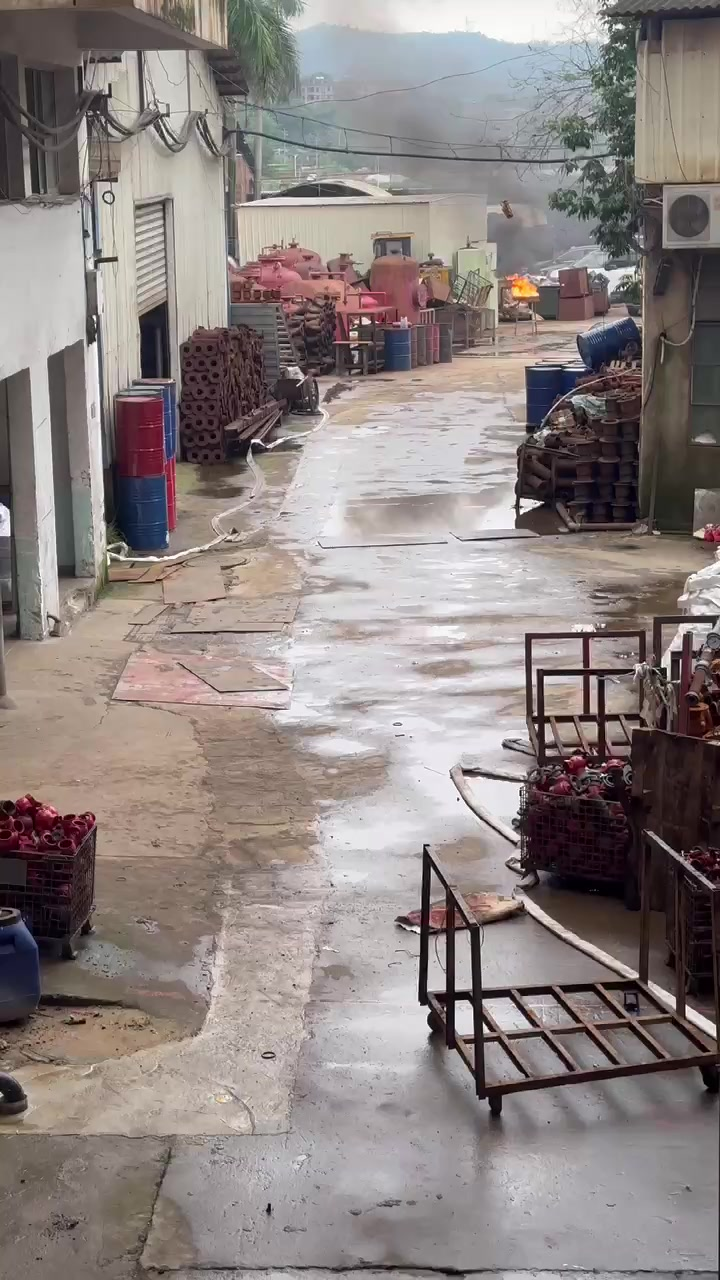fire: (505, 272, 540, 297)
